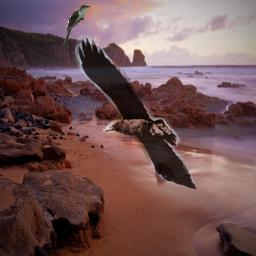Crow: (75, 35, 199, 193)
Cuckoo: (62, 4, 91, 47)
